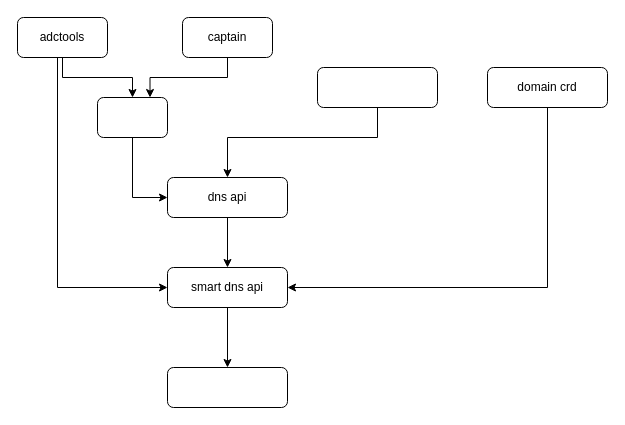
Some shapes in this 625 by 425 pixel diagram are drawn without their labels. Each missing label, with the centre of its shape:
remedy: the point at 132,117
smart dns etcd: the point at 227,387
st2: the point at 377,87
